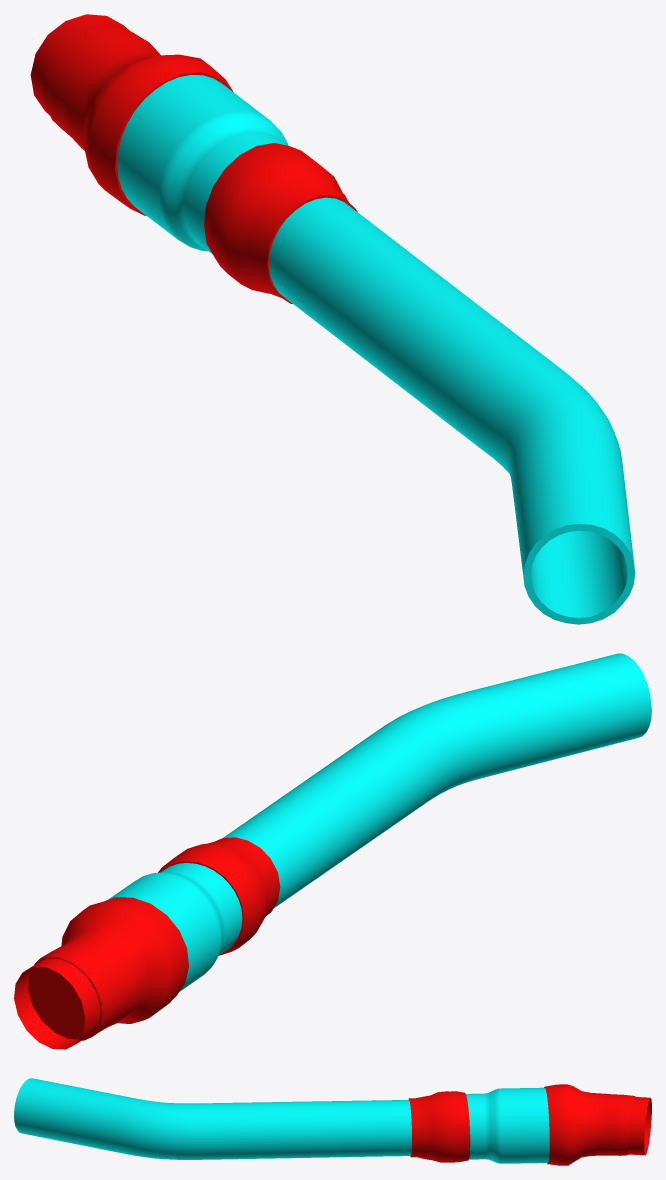
File: Vaccum_Handle.fbx
3 views of the same model, one above another, from view 1: azimuth 30°, elevation 25°; view 2: azimuth 150°, elevation 25°; view 3: azimuth 270°, elevation 25° (orthographic). The views are drawn at different scales.
Parts seen in each view (by area): view 1: SM_Vacuum_Cleaner_01_LOD0; view 2: SM_Vacuum_Cleaner_01_LOD0; view 3: SM_Vacuum_Cleaner_01_LOD0.
Part boxes in pixels (x1,y1,x2,y2): SM_Vacuum_Cleaner_01_LOD0: (30, 14, 635, 624); SM_Vacuum_Cleaner_01_LOD0: (14, 653, 651, 1049); SM_Vacuum_Cleaner_01_LOD0: (14, 1078, 651, 1165).
Size of the model in its own units: 7.36 by 4.47 by 34.68.
